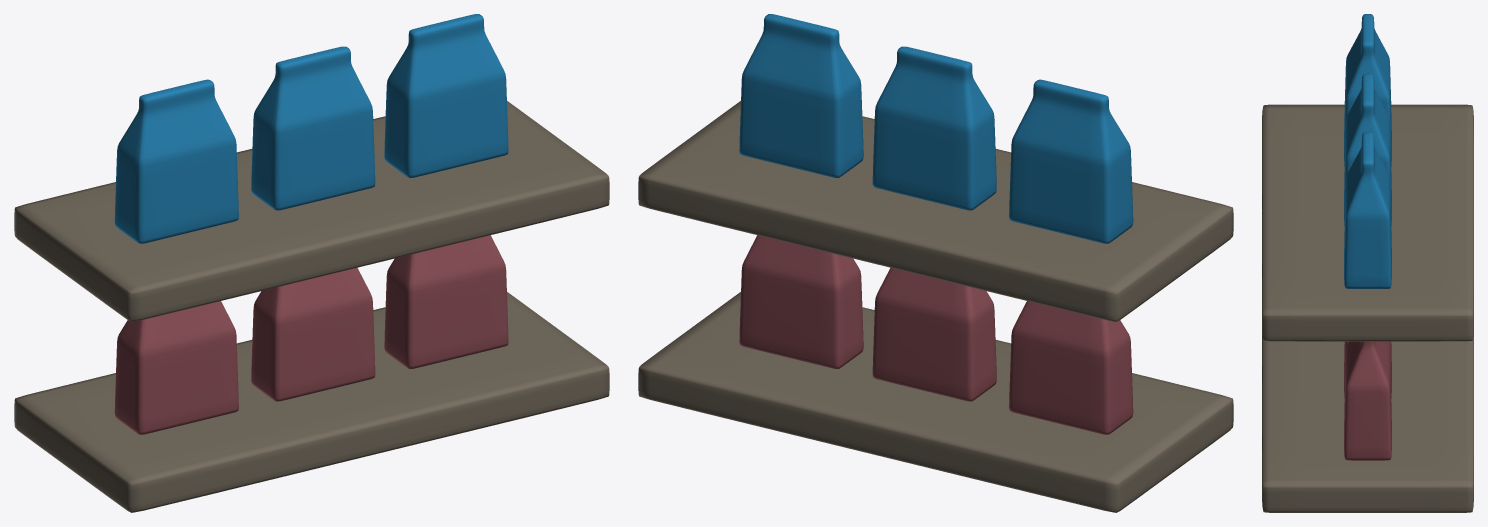
Rendered from snacks2.fbx.
3 views of the same model, side by side, from view 1: azimuth 30°, elevation 25°; view 2: azimuth 150°, elevation 25°; view 3: azimuth 270°, elevation 25° (orthographic). The views are drawn at different scales.
Parts seen in each view (by area): view 1: snacks2; view 2: snacks2; view 3: snacks2.
Part boxes in pixels (x1,y1,x2,y2): snacks2: [14, 14, 609, 512]; snacks2: [638, 14, 1233, 512]; snacks2: [1262, 14, 1473, 512].
Bounding box in the file's own units: 637 × 454 × 271.
